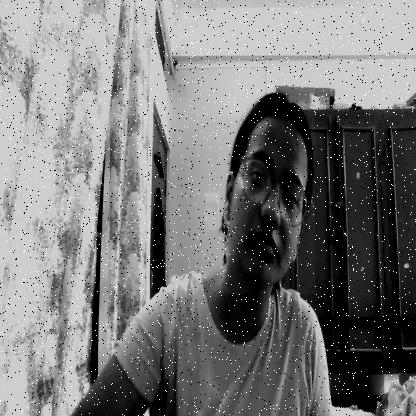Normal: (219, 84, 315, 294)
